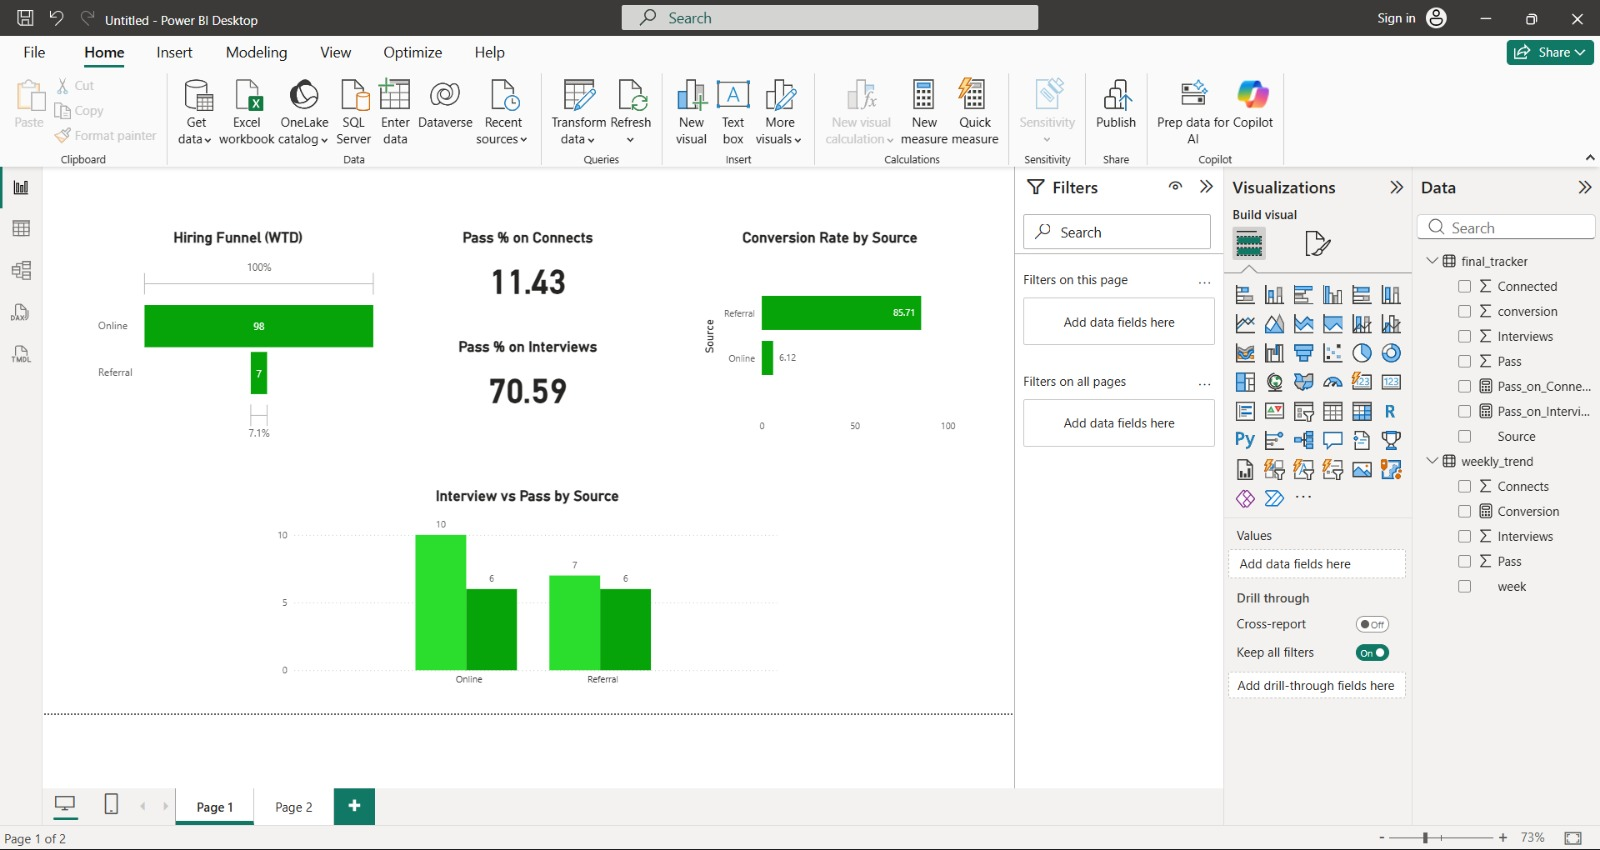

The page's visual inventory and layout, read from the dashboard file:
{"tool":"powerbi","page":{"name":"Page 1","canvas":[1280,720],"ordinal":0},"visuals":[{"type":"funnel","title":"Hiring Funnel (WTD)","fields":{"Category":["final_tracker.Source"],"Y":["Sum(final_tracker.is_connected)"]},"box":[68.6,82.3,377.4,288.2],"z":0},{"type":"clusteredColumnChart","title":"Interview vs Pass by Source","fields":{"Category":["final_tracker.Source"],"Y":["Sum(final_tracker.is_interview)","Sum(final_tracker.is_pass)"]},"box":[304.6,422.6,668.3,270.3],"z":1000},{"type":"clusteredBarChart","title":"Conversion Rate by Source","fields":{"Category":["final_tracker.Source"],"Y":["Sum(final_tracker.conversion)"]},"box":[865.9,82.3,343.1,277.2],"z":2000},{"type":"card","title":"Pass % on Connects","fields":{"Values":["final_tracker.Pass_on_Connects"]},"box":[489.9,82.3,299.1,107],"z":3000},{"type":"card","title":"Pass % on Interviews","fields":{"Values":["final_tracker.Pass_on_Interviews"]},"box":[503.6,226.4,271.7,107],"z":4000}]}

Visuals, with their boxes on the page's 1280x720 design canvas (x1, y1, x2, y2). These are canvas units, not pixel positions in the 1600x850 screenshot, which may show the page scaled, cropped or inside an application window:
"Hiring Funnel (WTD)" funnel: crop(69, 82, 446, 370)
"Interview vs Pass by Source" clusteredColumnChart: crop(305, 423, 973, 693)
"Conversion Rate by Source" clusteredBarChart: crop(866, 82, 1209, 360)
"Pass % on Connects" card: crop(490, 82, 789, 189)
"Pass % on Interviews" card: crop(504, 226, 775, 333)
